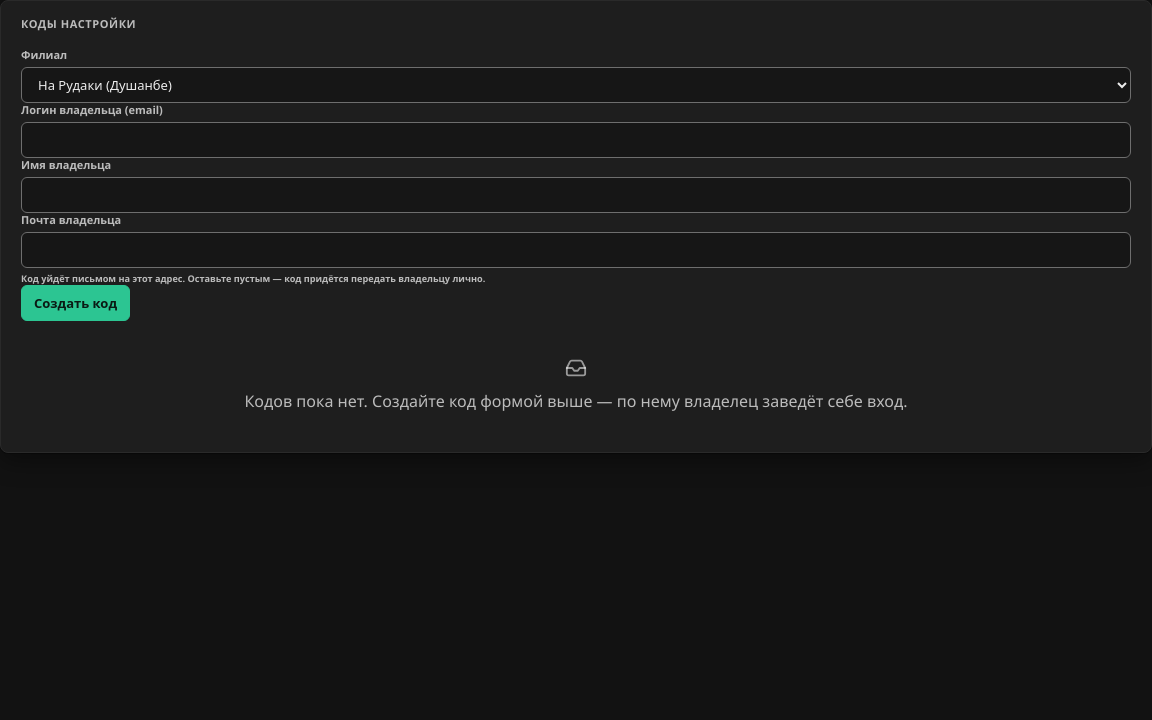
Scenario: выданный код можно передать ссылкой, а не перепечатывать из таблицы
The width and height of the screenshot is (1152, 720).
Click the button "Создать код": click(76, 303) [21,285,130,321]
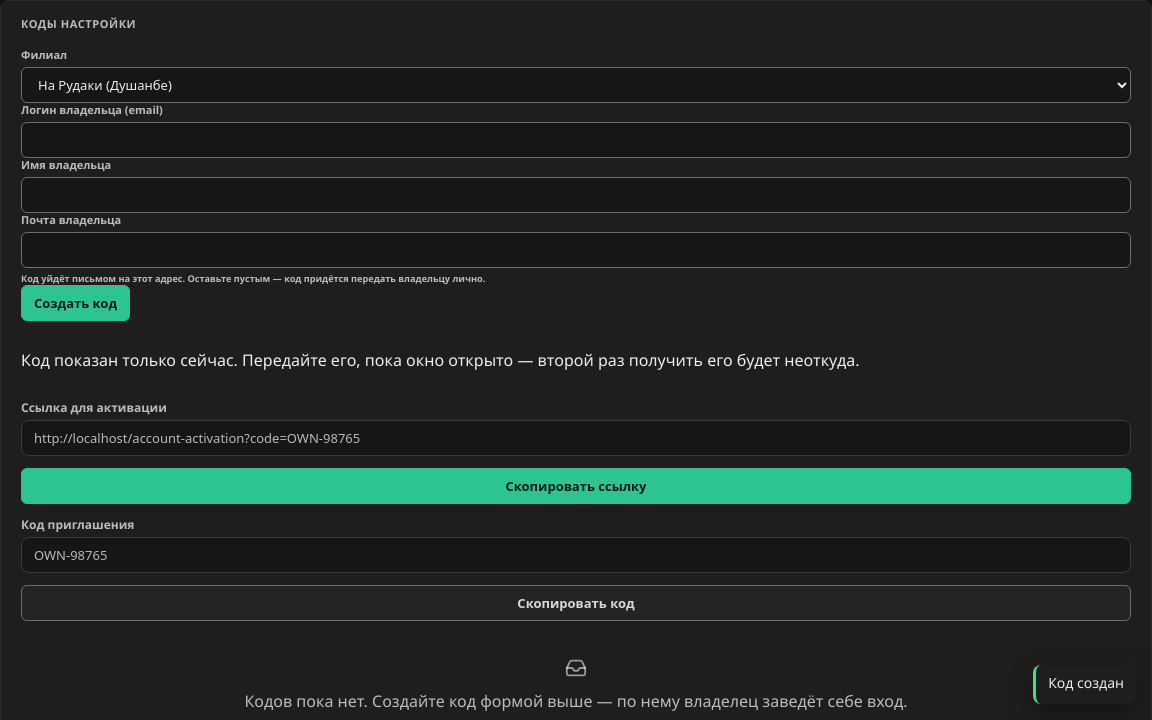
Check: the field labelled "Код приглашения" holds "OWN-98765", box [21,537,1131,573]
